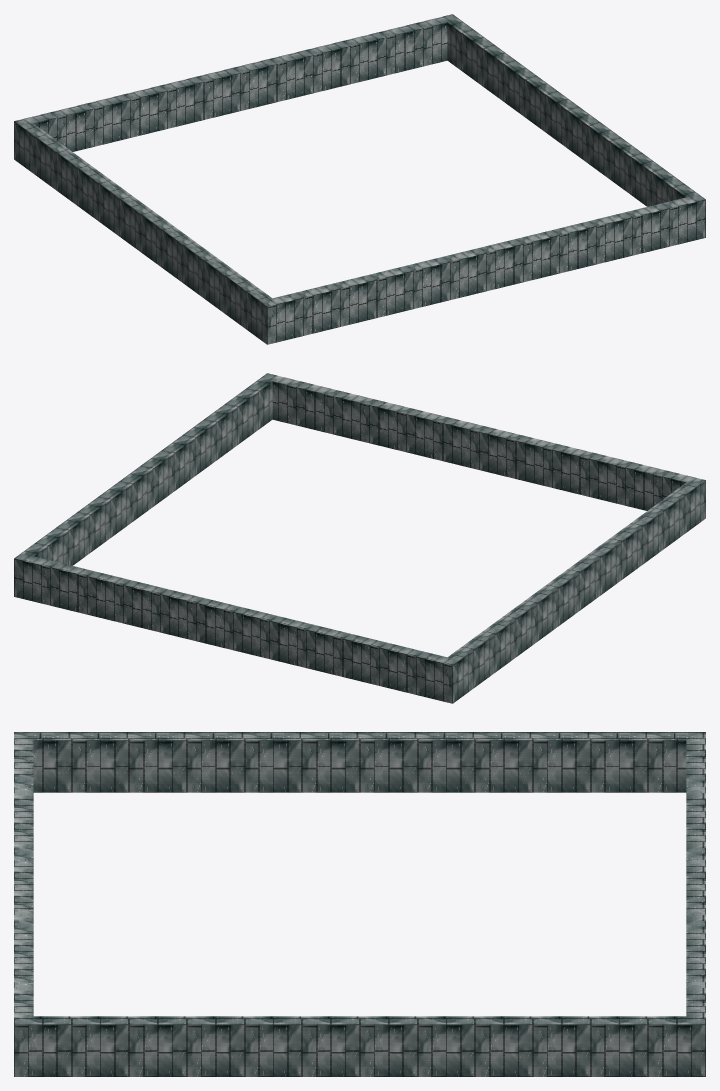
Rendered from Border.fbx.
3 renders of one model, top to bottom at view 1: azimuth 30°, elevation 25°; view 2: azimuth 150°, elevation 25°; view 3: azimuth 270°, elevation 25°, orthographic. The views are drawn at different scales.
Parts seen in each view (by area): view 1: border; view 2: border; view 3: border.
Part boxes in pixels (box(x1,y1,x2,y2)): border: box(14, 14, 705, 344); border: box(14, 373, 705, 703); border: box(14, 732, 705, 1076).
Size of the model in its own units: 2400 by 200 by 2400.
